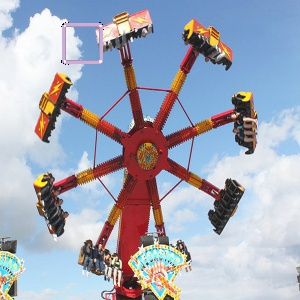square: (61, 20, 104, 65)
